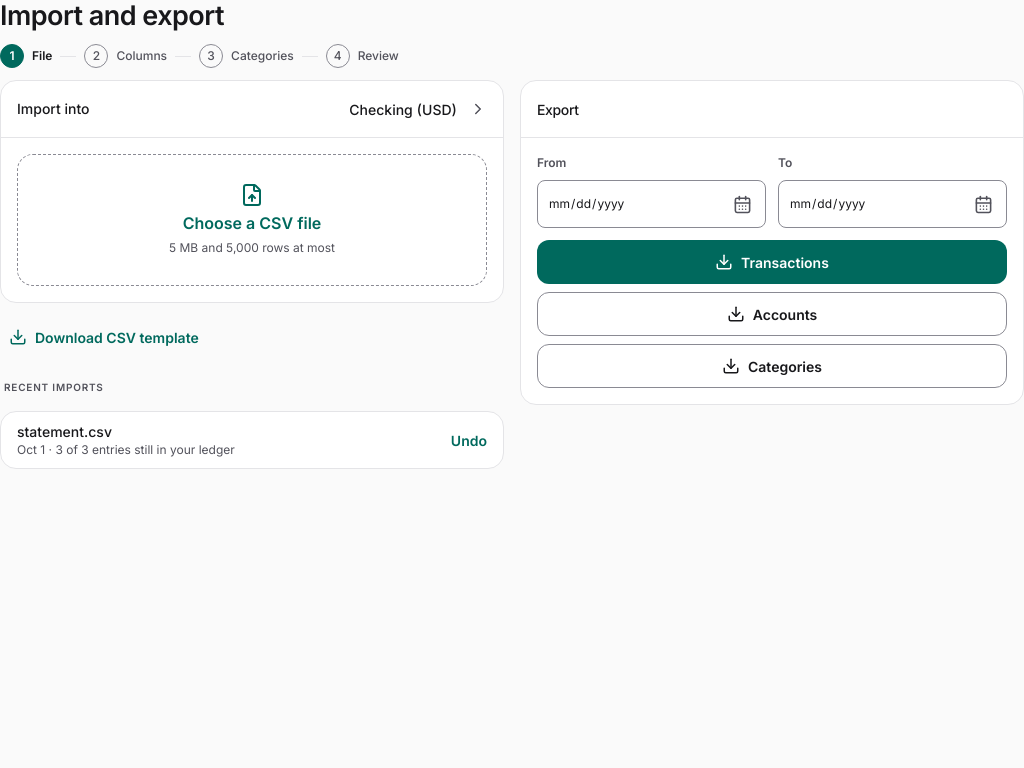
it: ImportPage › lists recent imports and keeps the undo message after the list refreshes
Expected: the heading "Recent imports" is shown, x1=4 y1=381 x2=104 y2=393
Expected: the text "Oct 1 · 3 of 3 entries still in your ledger" is shown, x1=17 y1=442 x2=235 y2=457
Click the button "statement.csv". click: (64,431)
box: x1=1 y1=412 x2=503 y2=468
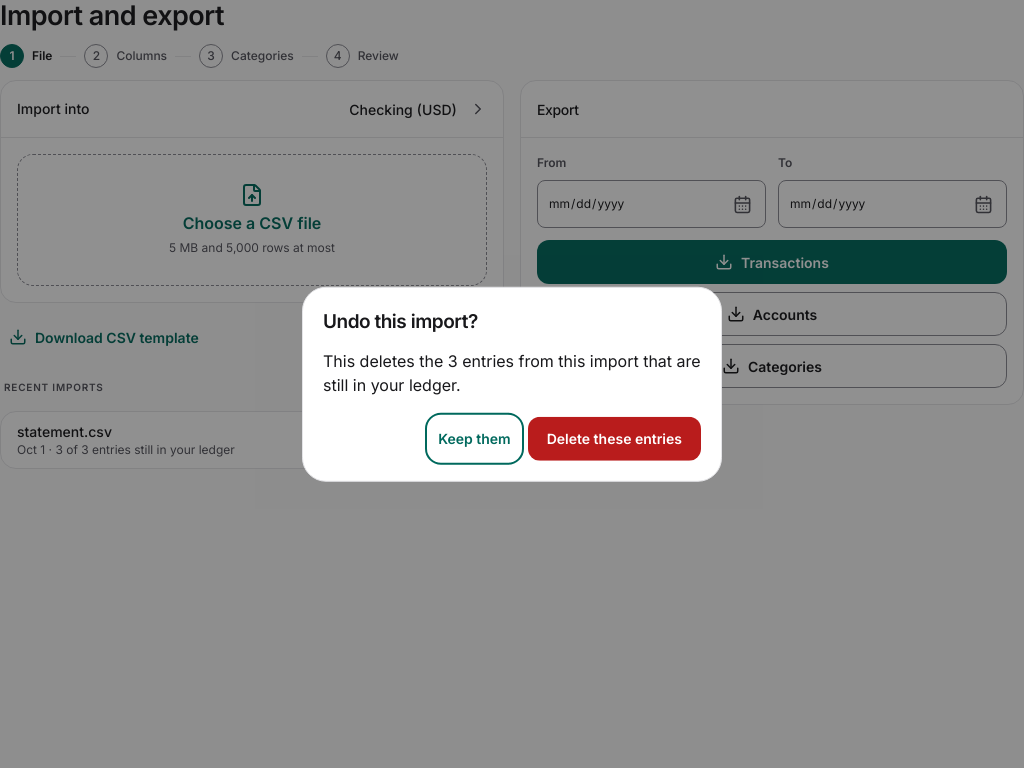
Click the button "Delete these entries". click: (614,438)
box: x1=528 y1=416 x2=701 y2=460
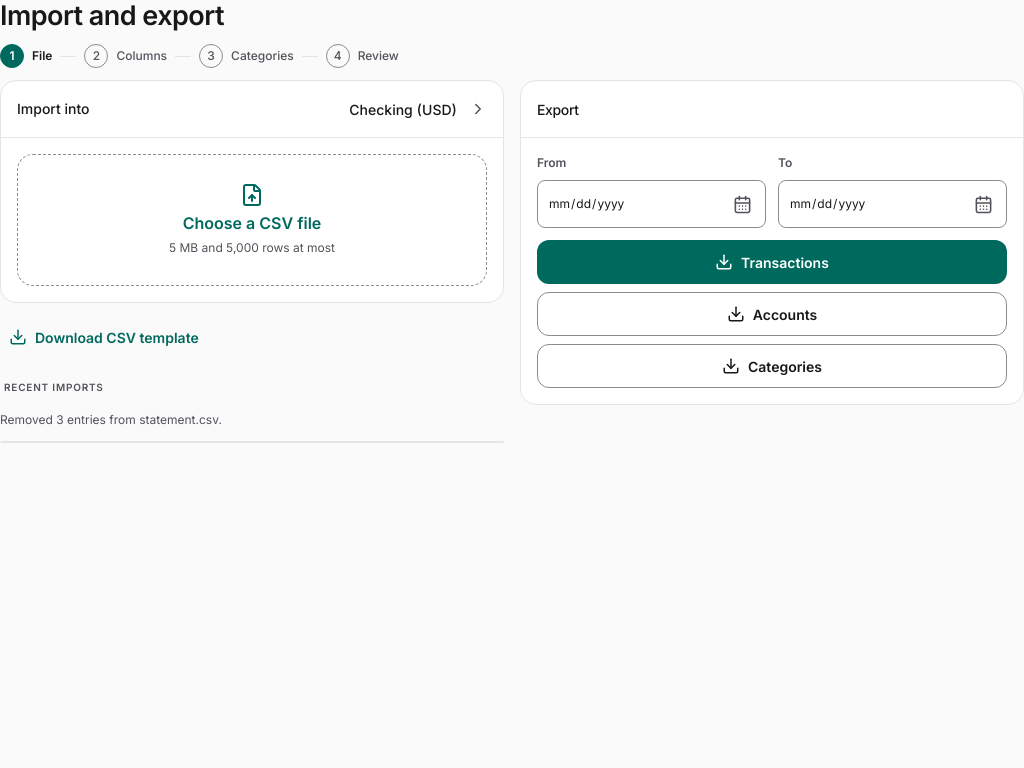
Expected: the text "Removed 3 entries from statement.csv." is shown, x1=0 y1=412 x2=222 y2=427
Expected: the heading "Undo this import?" is gone
